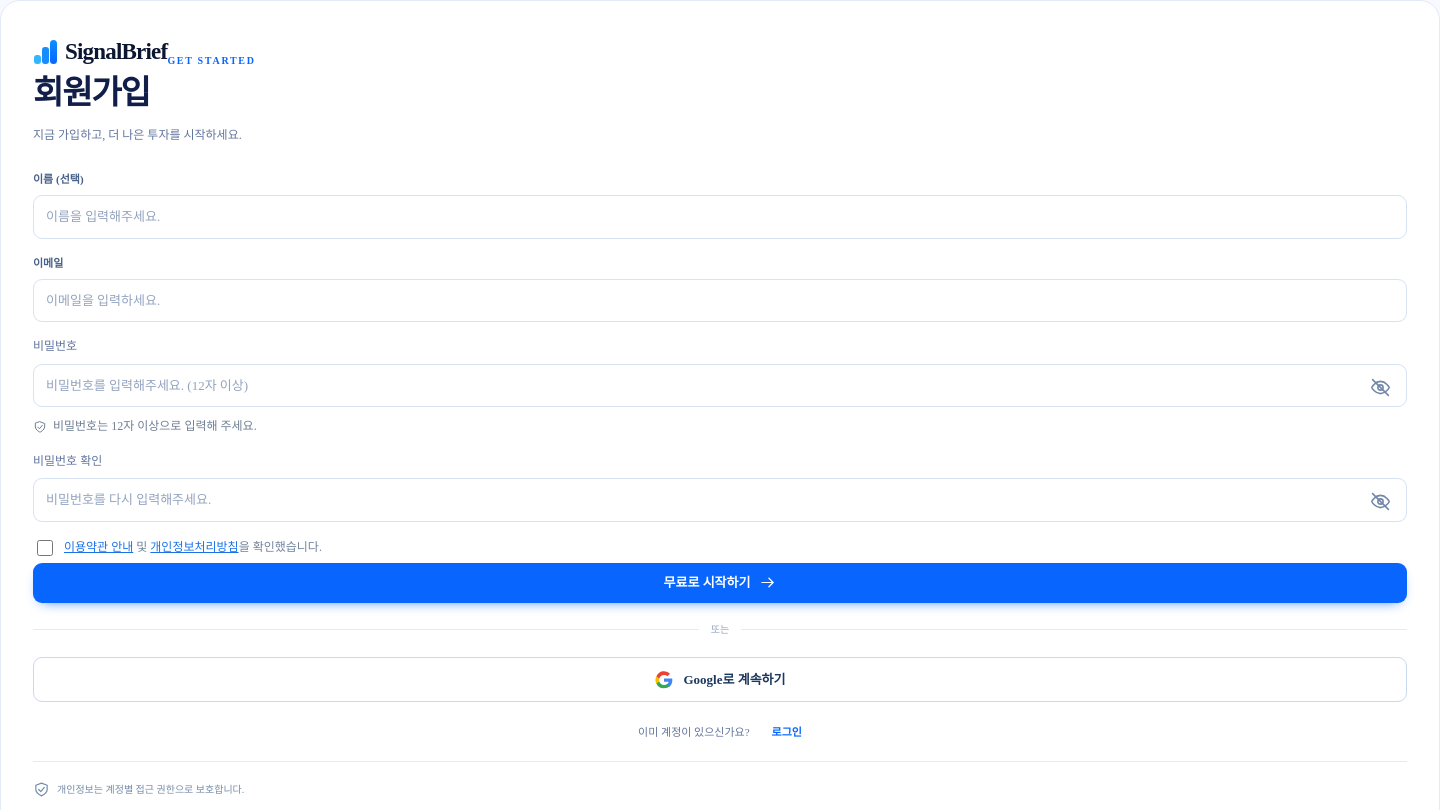
Test case: registers by email and shows confirmation without requiring Google
Type "fixture@example.com" into the field labelled "이메일" at coordinates (720, 300), box [33, 279, 1407, 322]
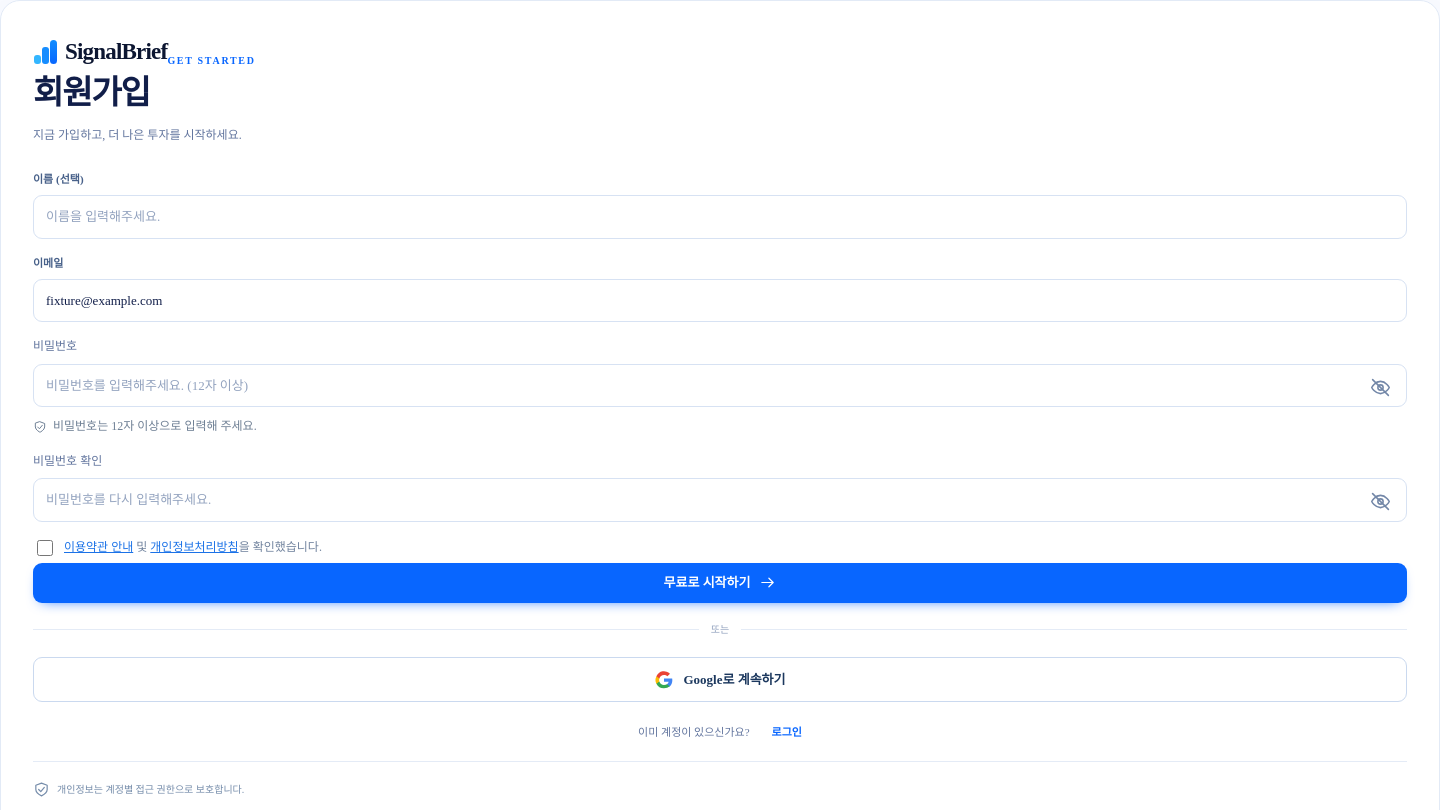
Type "fixture-password-123" into the password field labelled "비밀번호" at coordinates (720, 386), box [33, 364, 1407, 407]
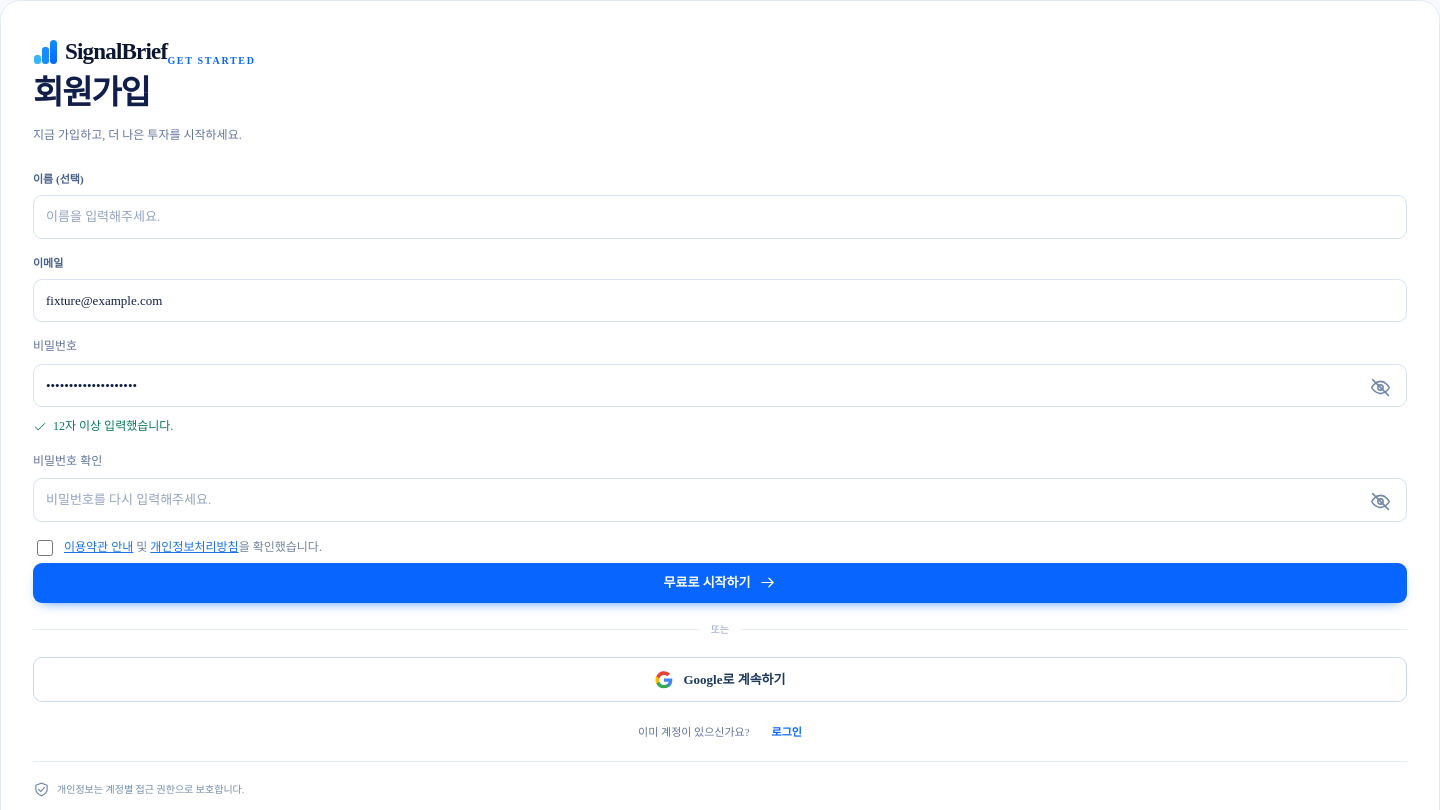
Type "fixture-password-123" into the password field labelled "비밀번호 확인" at coordinates (720, 500), box [33, 478, 1407, 522]
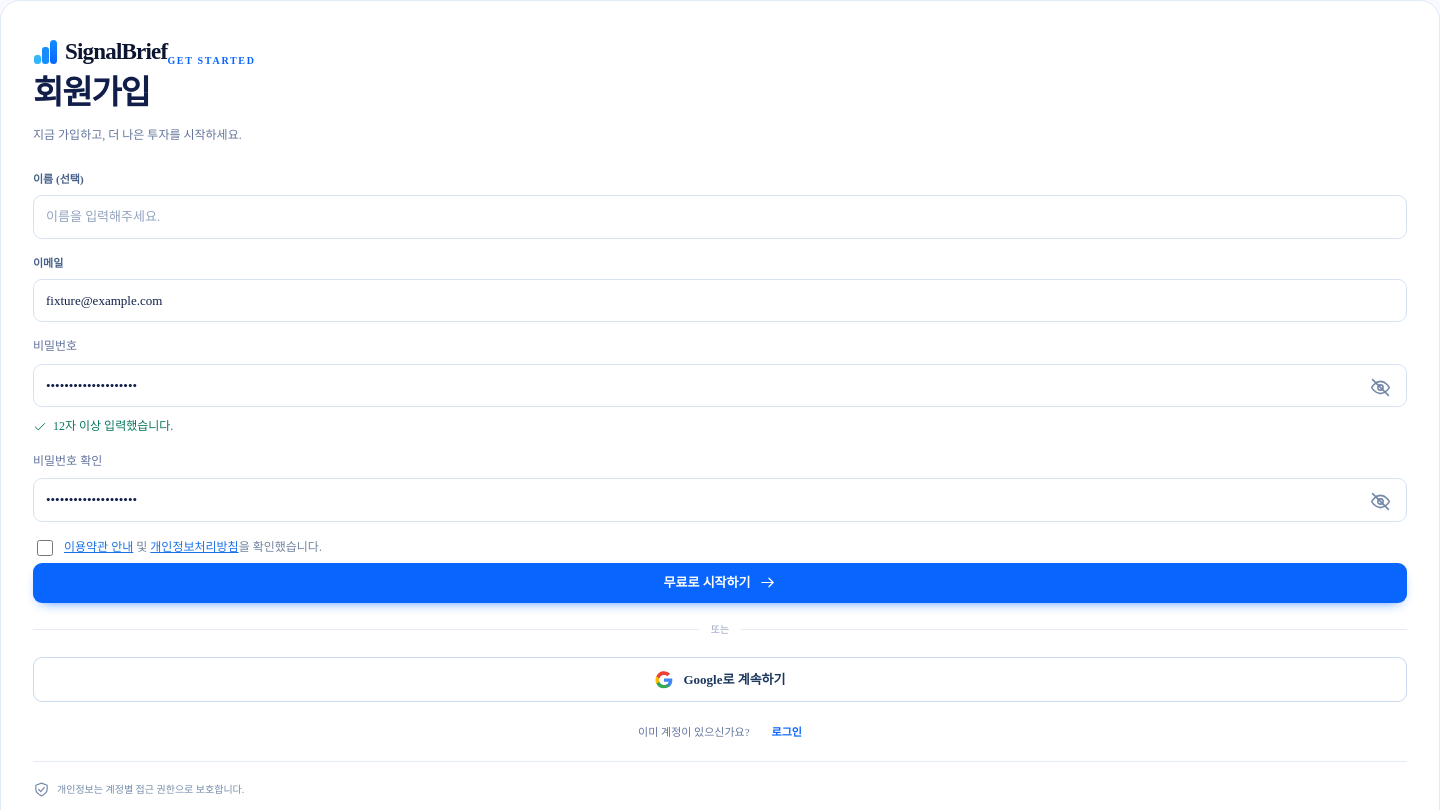
Click the checkbox at coordinates (45, 548), box [37, 540, 53, 556]
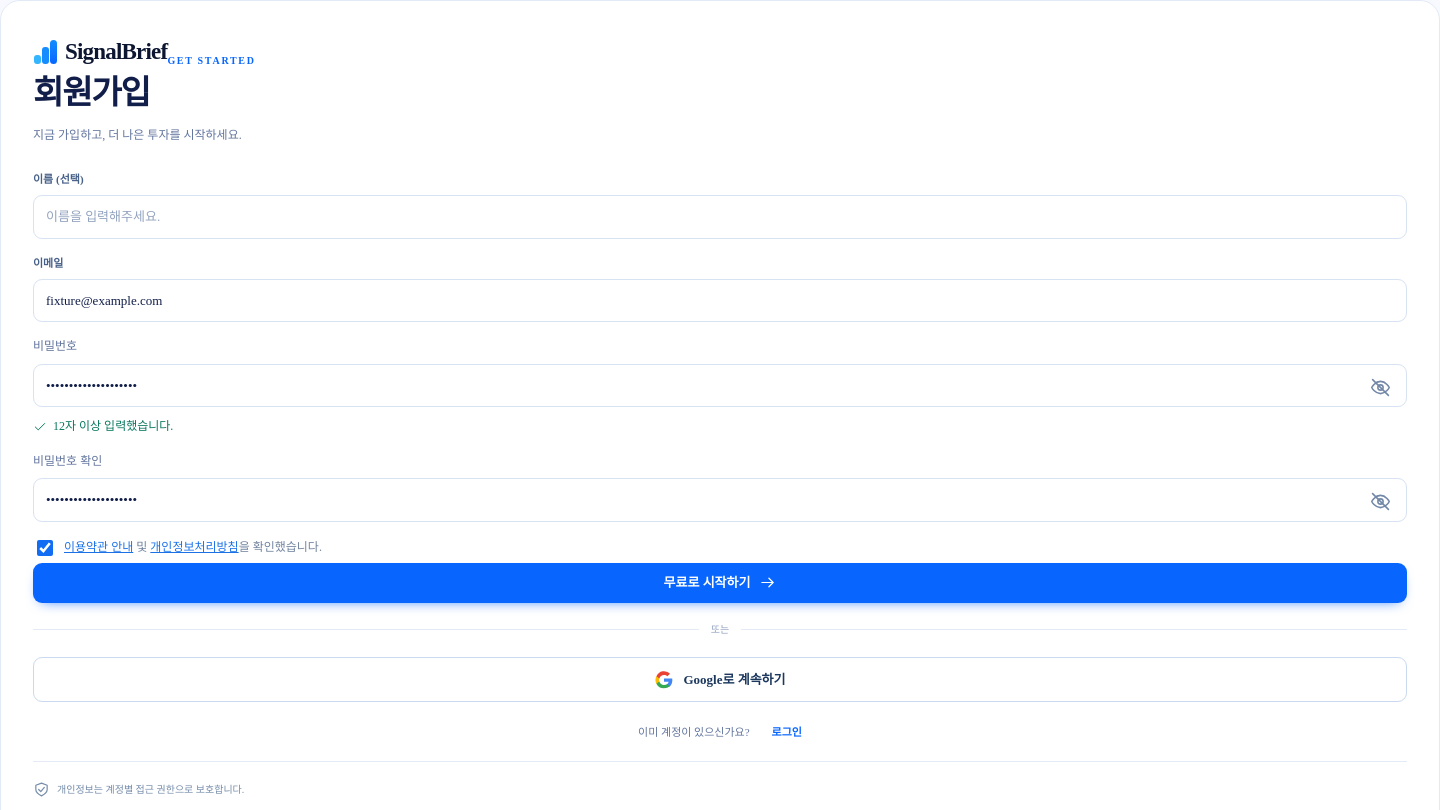
Click the button "무료로 시작하기" at coordinates (720, 583), box [33, 563, 1407, 603]
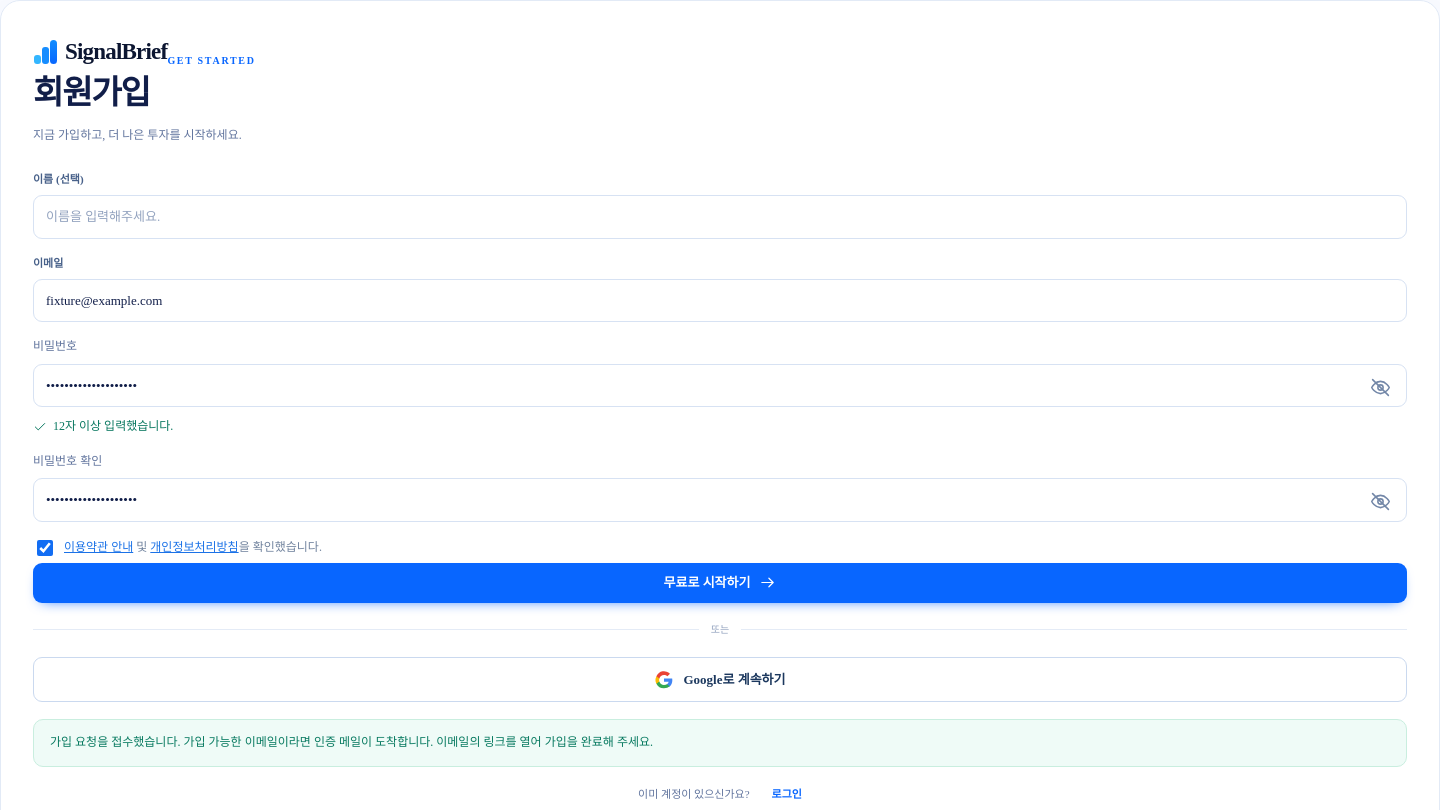
Now the message shows "가입 요청을 접수", box [50, 735, 653, 749]
